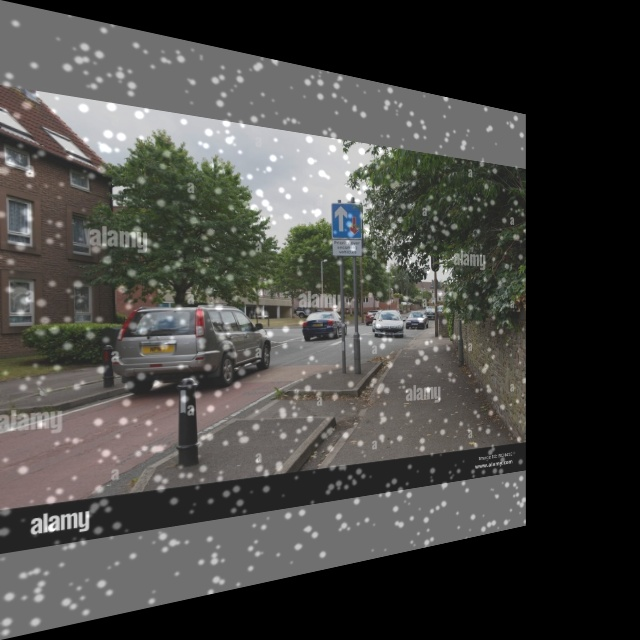Priority_for_Oncoming_Traffic: (331, 201, 363, 240)
